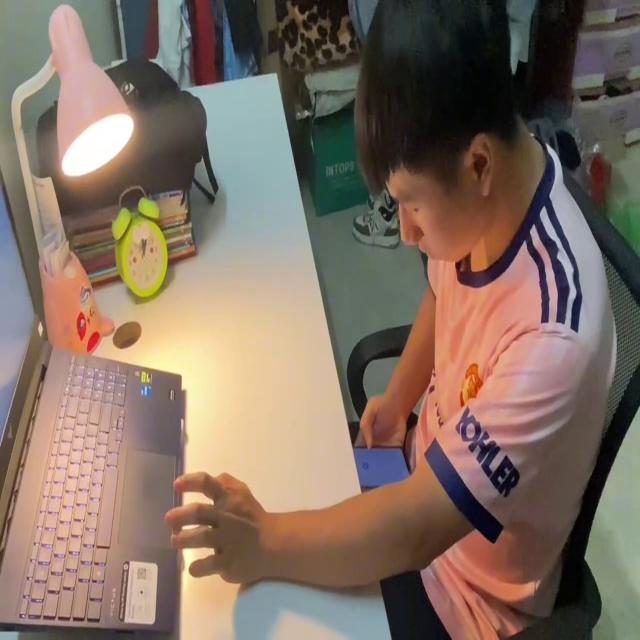laptop: (0, 160, 186, 640)
phone: (348, 438, 418, 496)
student: (163, 0, 614, 640)
